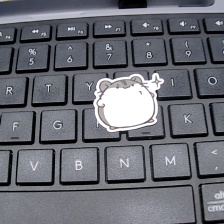mouse: (90, 67, 167, 135)
